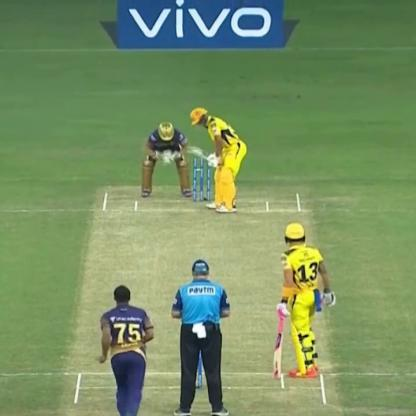bat: (174, 142, 220, 167)
pitch: (67, 187, 328, 409)
